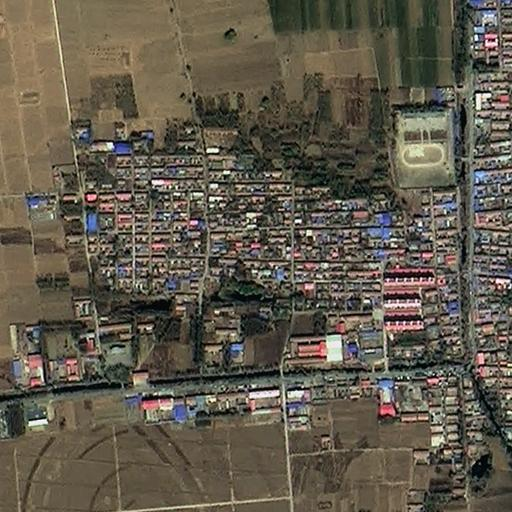school: (386, 102, 457, 188)
